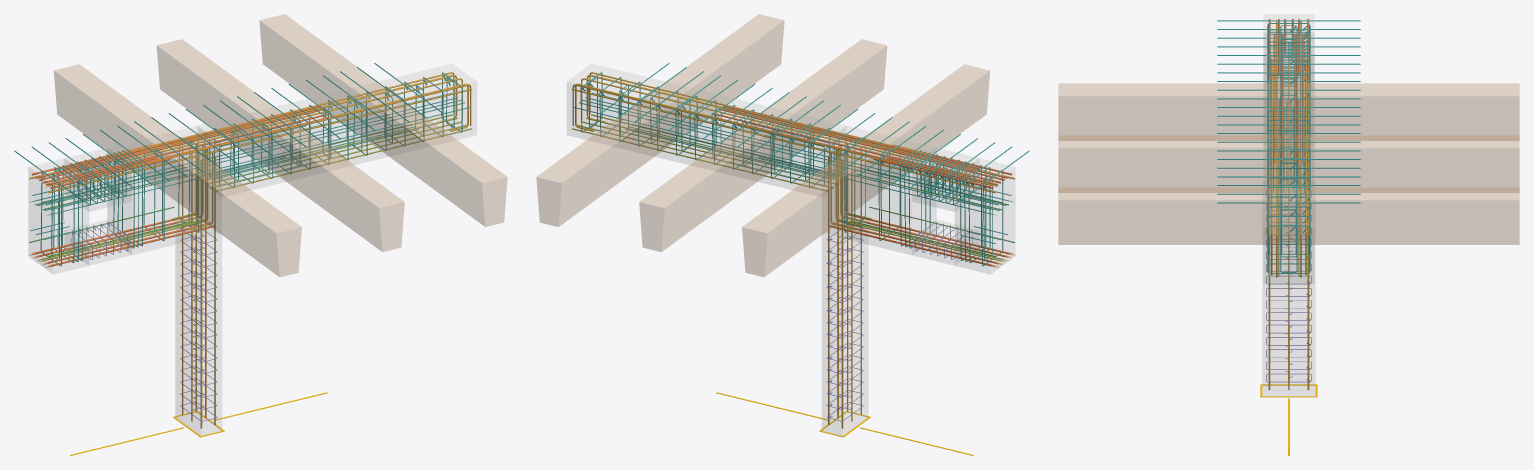
File: unterzug-441-vorortg12-ft.glb
3 views of the same model, side by side, from view 1: azimuth 30°, elevation 25°; view 2: azimuth 150°, elevation 25°; view 3: azimuth 270°, elevation 25° (orthographic). The views are drawn at different scales.
Parts seen in each view (by area): view 1: Beton, Fertigteiltraeger_3, Fertigteiltraeger_2, Fertigteiltraeger_1, Pos_29_2, Pos_53_geschaetzt_1, Pos_28_geschaetzt_3, Pos_1_15, Pos_28_geschaetzt_1, Pos_28_geschaetzt_2, Pos_33_geschaetzt_3, Pos_36_geschaetzt_1 (+9 smaller); view 2: Beton, Fertigteiltraeger_3, Fertigteiltraeger_1, Fertigteiltraeger_2, Pos_29_1, Pos_53_geschaetzt_2, Pos_28_geschaetzt_2, Pos_1_13, Pos_28_geschaetzt_1, Pos_28_geschaetzt_3, Pos_33_geschaetzt_1, Pos_36_geschaetzt_2 (+9 smaller); view 3: Fertigteiltraeger_3, Fertigteiltraeger_2, Fertigteiltraeger_1, Beton, Pos_53_geschaetzt_2, Pos_53_geschaetzt_1.
Boxes of the visible parts, x1=… form: Beton: x1=29, y1=64, x2=476, y2=435; Fertigteiltraeger_3: x1=259, y1=14, x2=507, y2=226; Fertigteiltraeger_2: x1=157, y1=39, x2=404, y2=251; Fertigteiltraeger_1: x1=54, y1=64, x2=301, y2=276; Pos_29_2: x1=48, y1=88, x2=472, y2=193; Pos_53_geschaetzt_1: x1=33, y1=75, x2=457, y2=178; Pos_28_geschaetzt_3: x1=129, y1=84, x2=471, y2=167; Pos_1_15: x1=200, y1=159, x2=202, y2=428; Pos_28_geschaetzt_1: x1=121, y1=78, x2=462, y2=161; Pos_28_geschaetzt_2: x1=113, y1=72, x2=454, y2=155; Pos_33_geschaetzt_3: x1=51, y1=106, x2=471, y2=209; Pos_36_geschaetzt_1: x1=63, y1=105, x2=320, y2=169; Beton: x1=567, y1=64, x2=1014, y2=435; Fertigteiltraeger_3: x1=536, y1=14, x2=784, y2=226; Fertigteiltraeger_1: x1=742, y1=64, x2=989, y2=276; Fertigteiltraeger_2: x1=639, y1=39, x2=886, y2=251; Pos_29_1: x1=571, y1=88, x2=995, y2=193; Pos_53_geschaetzt_2: x1=586, y1=75, x2=1010, y2=178; Pos_28_geschaetzt_2: x1=572, y1=84, x2=914, y2=167; Pos_1_13: x1=841, y1=159, x2=843, y2=428; Pos_28_geschaetzt_1: x1=581, y1=78, x2=922, y2=161; Pos_28_geschaetzt_3: x1=589, y1=72, x2=930, y2=155; Pos_33_geschaetzt_1: x1=572, y1=106, x2=992, y2=209; Pos_36_geschaetzt_2: x1=723, y1=105, x2=980, y2=169; Fertigteiltraeger_3: x1=1058, y1=187, x2=1519, y2=244; Fertigteiltraeger_2: x1=1058, y1=135, x2=1519, y2=192; Fertigteiltraeger_1: x1=1058, y1=83, x2=1519, y2=140; Beton: x1=1263, y1=14, x2=1314, y2=395; Pos_53_geschaetzt_2: x1=1276, y1=19, x2=1277, y2=277; Pos_53_geschaetzt_1: x1=1300, y1=21, x2=1301, y2=277.
Bounding box in the file's own units: 5.01 × 3.2 × 4.5.
